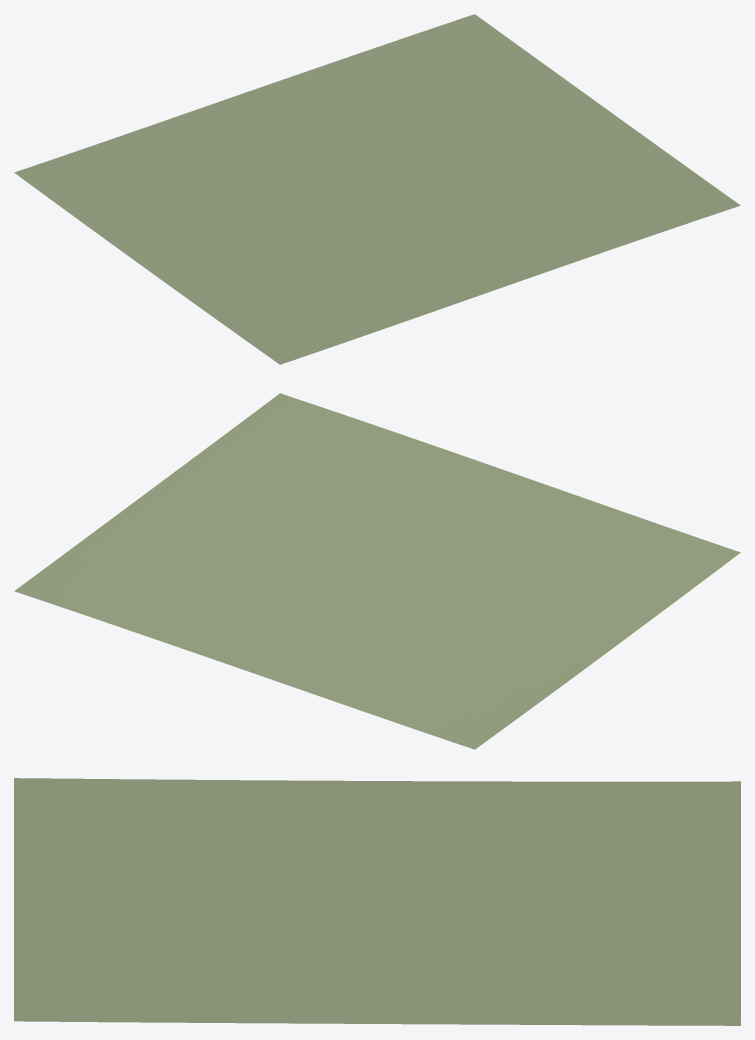
File: desert-11-22.glb
The picture shows the model from 3 angles, top to bottom: view 1: azimuth 30°, elevation 25°; view 2: azimuth 150°, elevation 25°; view 3: azimuth 270°, elevation 25°; orthographic projection. The views are drawn at different scales.
Visible parts, largest first — view 1: desert-11-22; view 2: desert-11-22; view 3: desert-11-22.
Boxes of the visible parts, <box> form: desert-11-22: <box>14,14,740,364</box>; desert-11-22: <box>14,393,740,749</box>; desert-11-22: <box>14,778,740,1025</box>.
Size of the model in its own units: 512 by 52.43 by 512.
